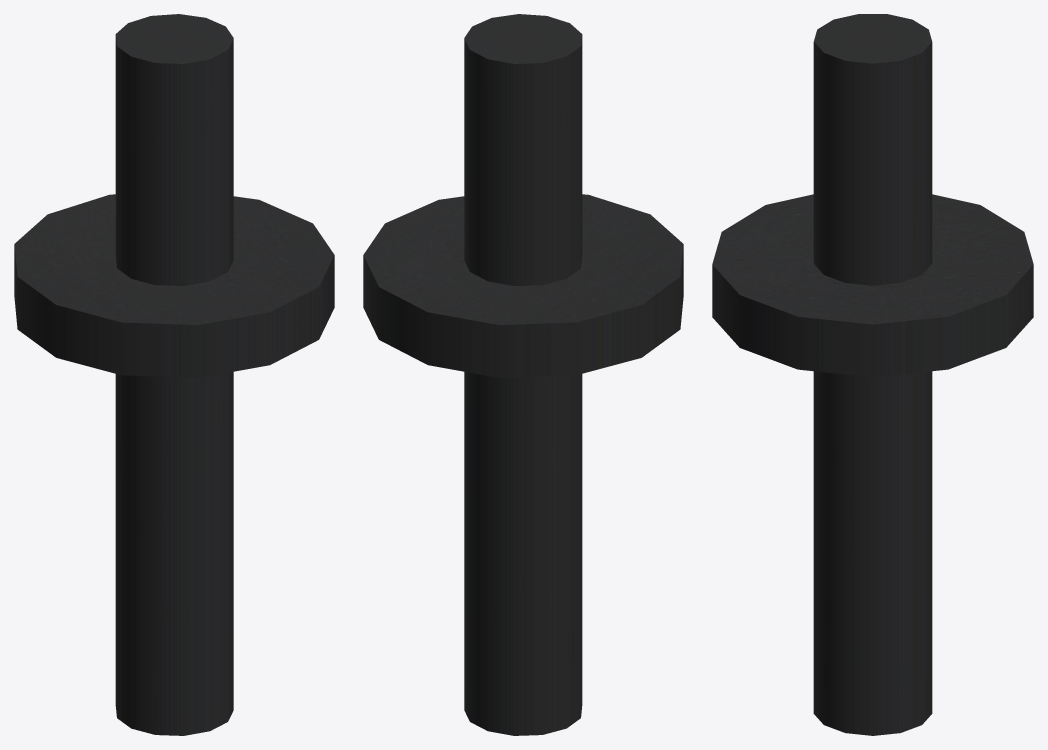
The model's file is Front_Sight_Post.dae.
3 renders of one model, left to right at view 1: azimuth 30°, elevation 25°; view 2: azimuth 150°, elevation 25°; view 3: azimuth 270°, elevation 25°, orthographic.
Visible parts, largest first — view 1: Front_Sight_Post; view 2: Front_Sight_Post; view 3: Front_Sight_Post.
Part boxes in pixels (box(x1,y1,x2,y2)): Front_Sight_Post: box(14, 14, 334, 735); Front_Sight_Post: box(363, 14, 683, 735); Front_Sight_Post: box(712, 14, 1033, 735).
Bounding box in the file's own units: 0.00891 × 0.00898 × 0.0207.
1 material, 1 textured.
